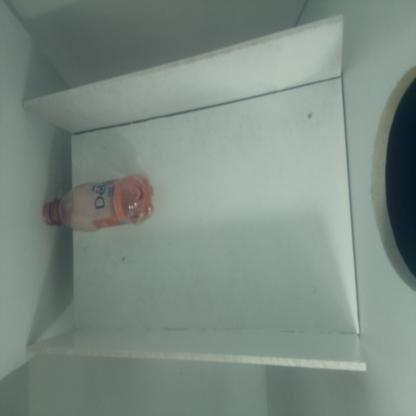bottle: (39, 171, 159, 236)
